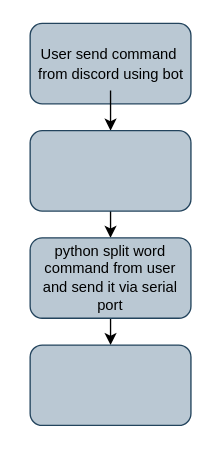
This 220x449 diagram has some shape labels left out. The box of each missing label's shape, as (x1, y1, x2, y2) in pixels:
arduino recevie command via serial line, then process it.: (29, 344, 191, 425)
command sent by user proceessed by python as medium: (29, 129, 191, 211)
